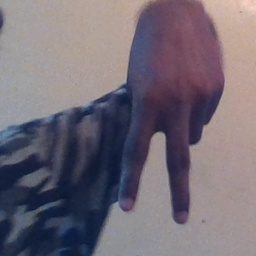Y: (108, 67, 217, 227)
